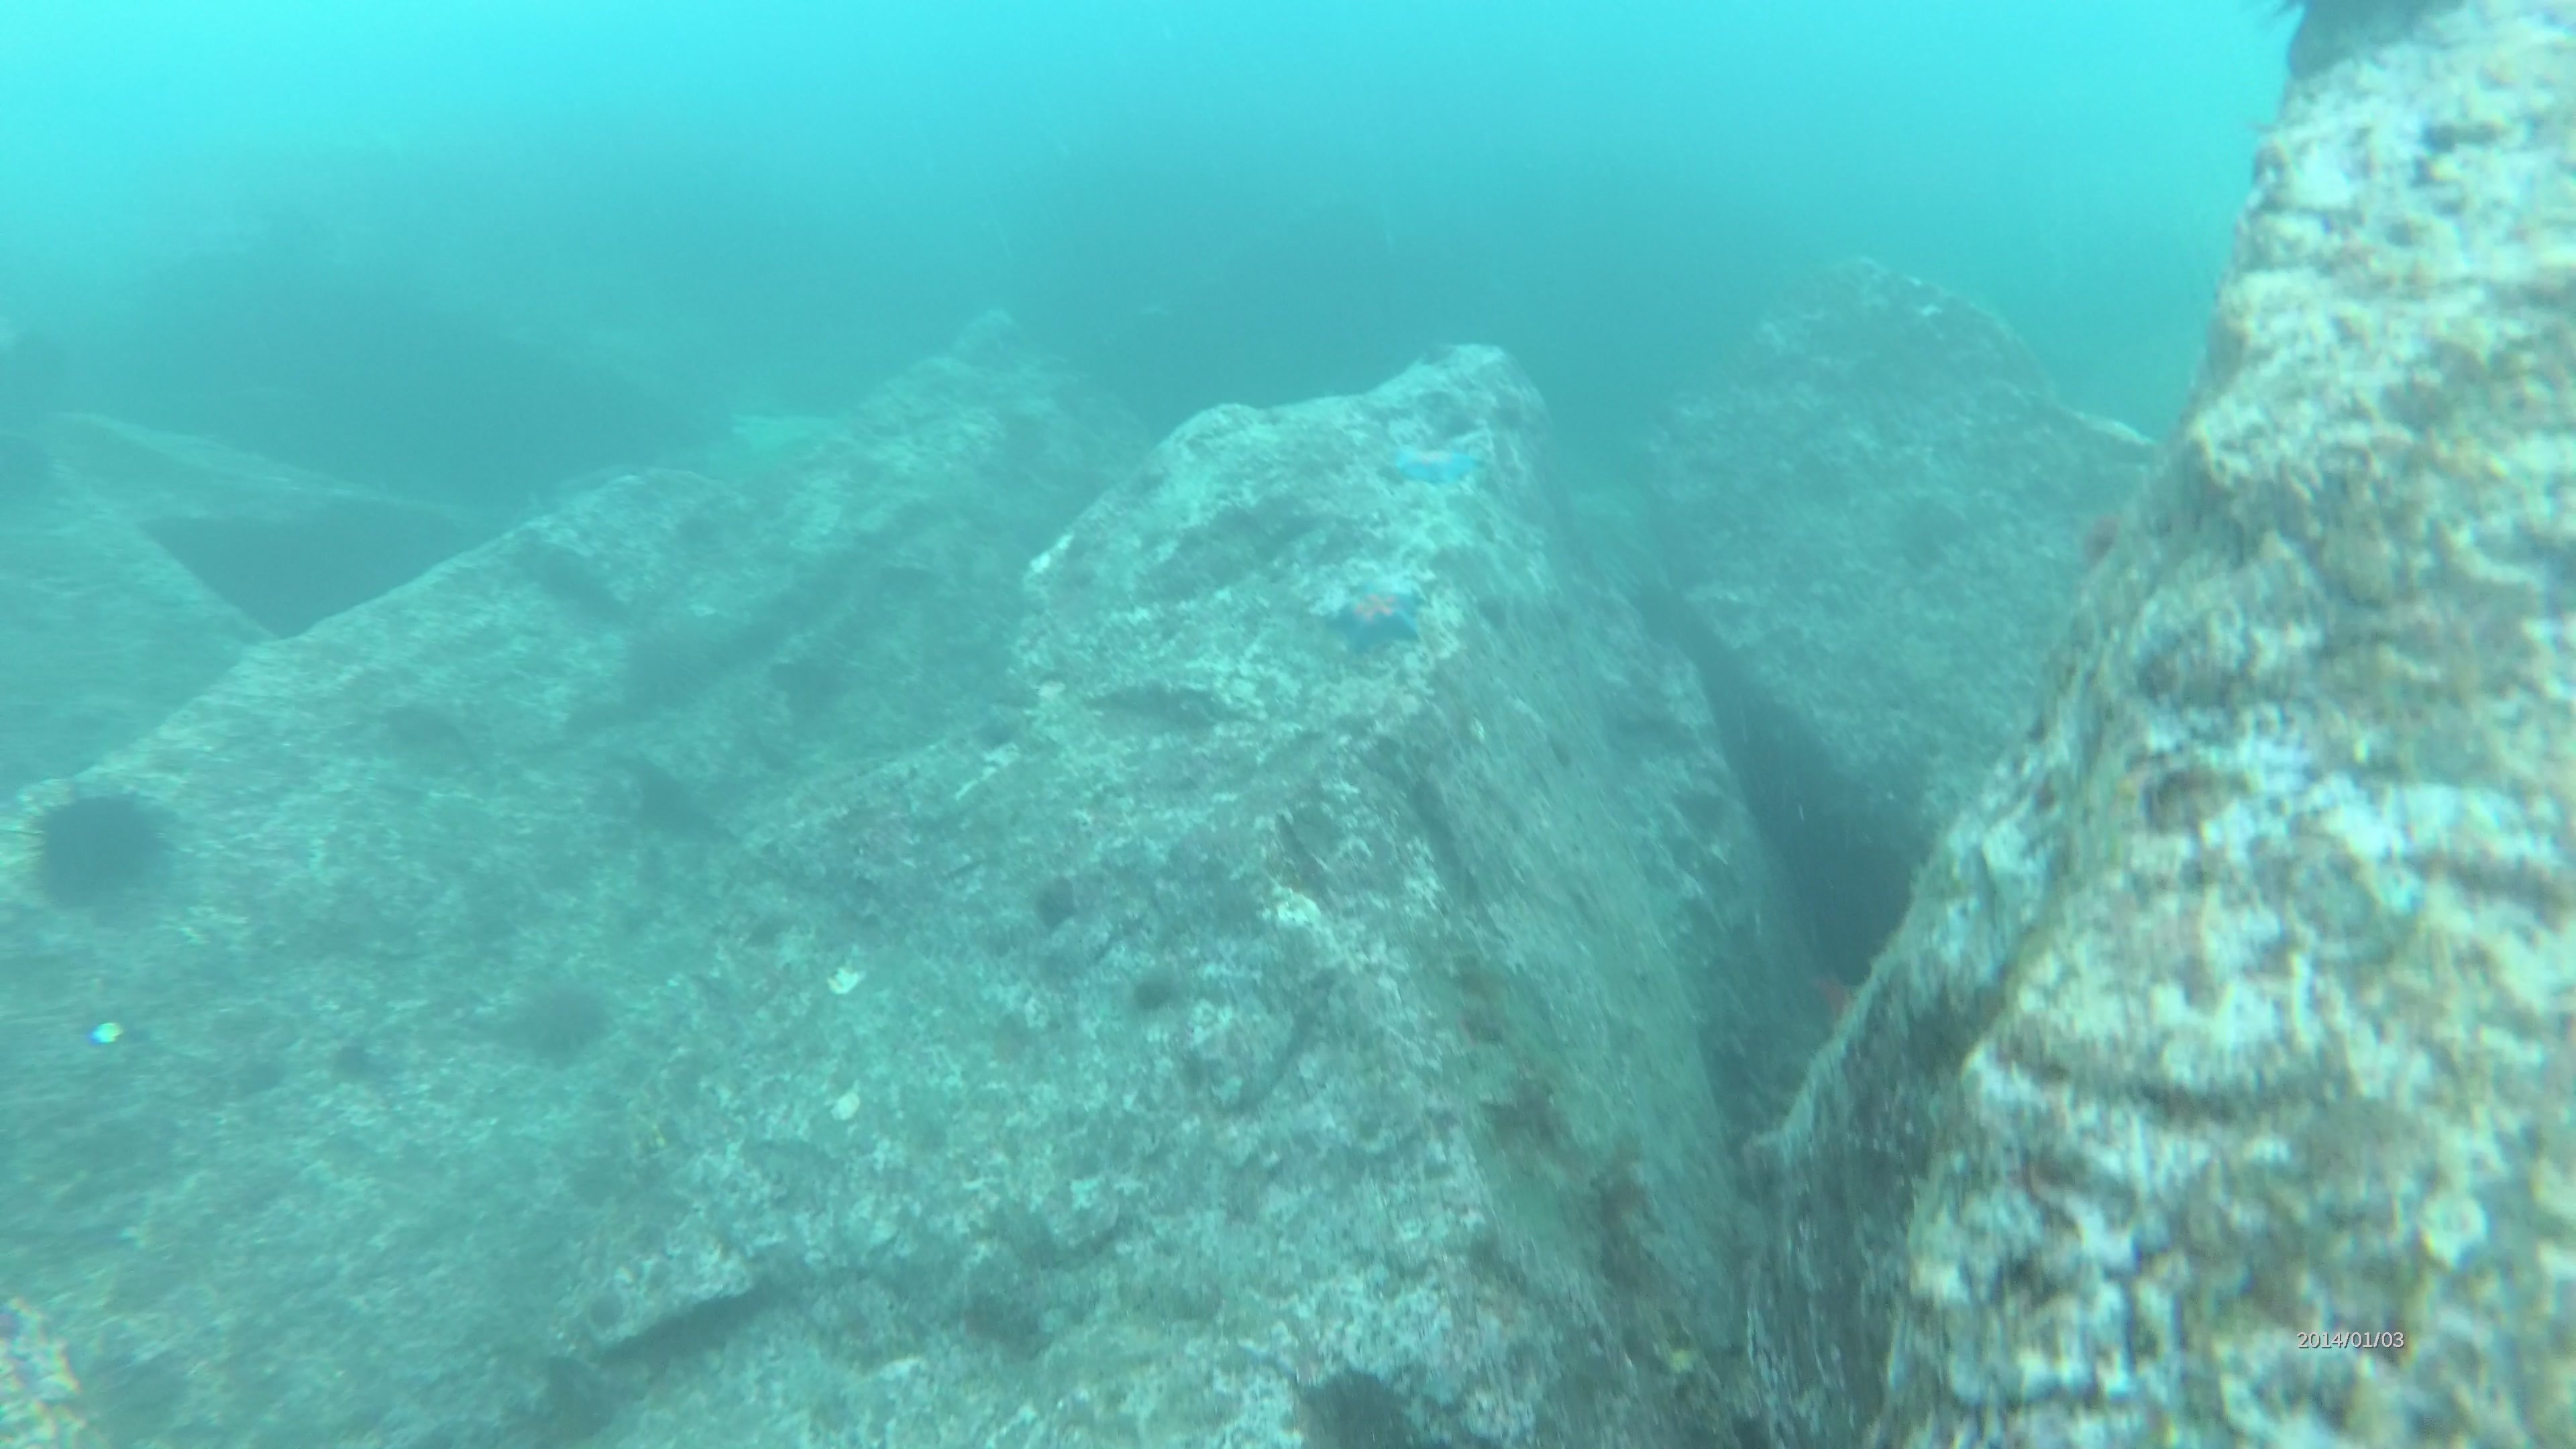echinus: (18, 775, 177, 916), (1281, 1355, 1431, 1444), (499, 964, 619, 1069)
starfish: (1316, 561, 1438, 662), (1376, 419, 1497, 499)
